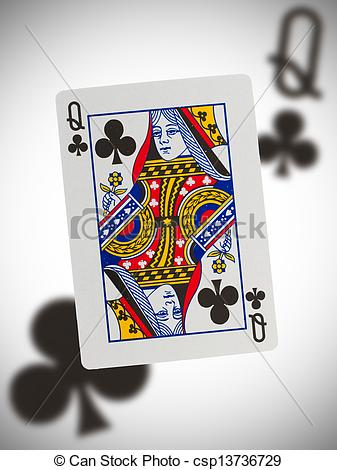queen of clubs: (56, 74, 276, 368)
